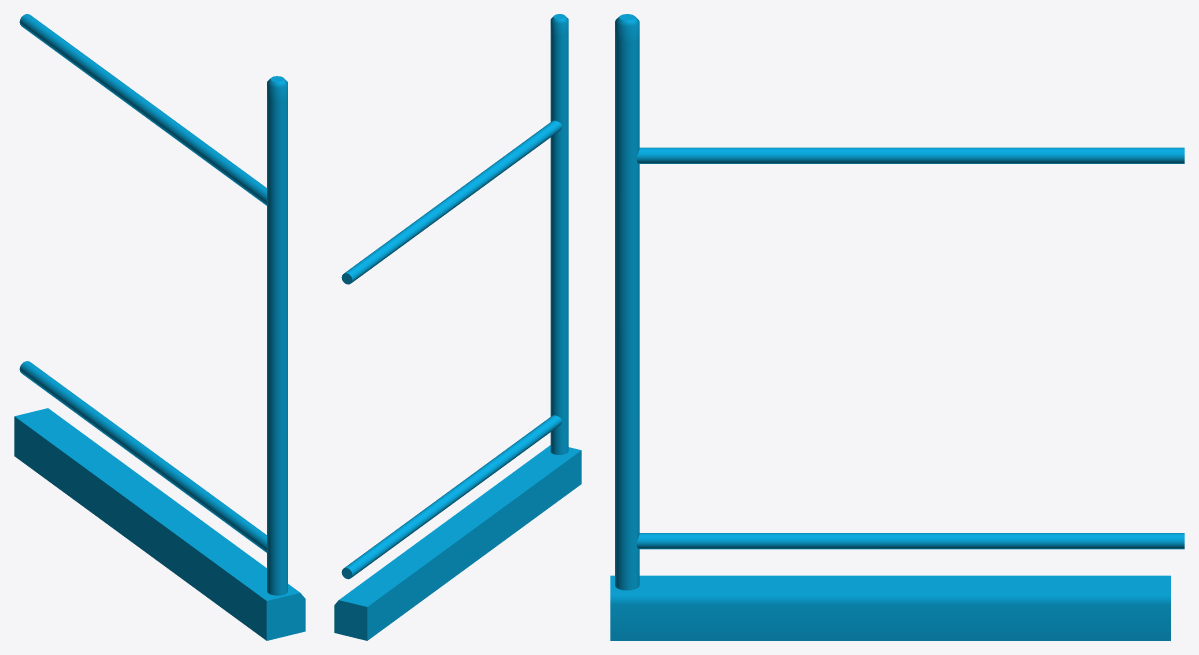
The model's file is Fence_03_Lod0.fbx.
3 views of the same model, side by side, from view 1: azimuth 30°, elevation 25°; view 2: azimuth 150°, elevation 25°; view 3: azimuth 270°, elevation 25° (orthographic). The views are drawn at different scales.
Parts seen in each view (by area): view 1: Fence_03_Lod0; view 2: Fence_03_Lod0; view 3: Fence_03_Lod0.
Part boxes in pixels (x1,y1,x2,y2): Fence_03_Lod0: (14, 14, 305, 640); Fence_03_Lod0: (334, 14, 581, 640); Fence_03_Lod0: (610, 14, 1184, 640).
Size of the model in its own units: 26.62 by 362 by 307.
